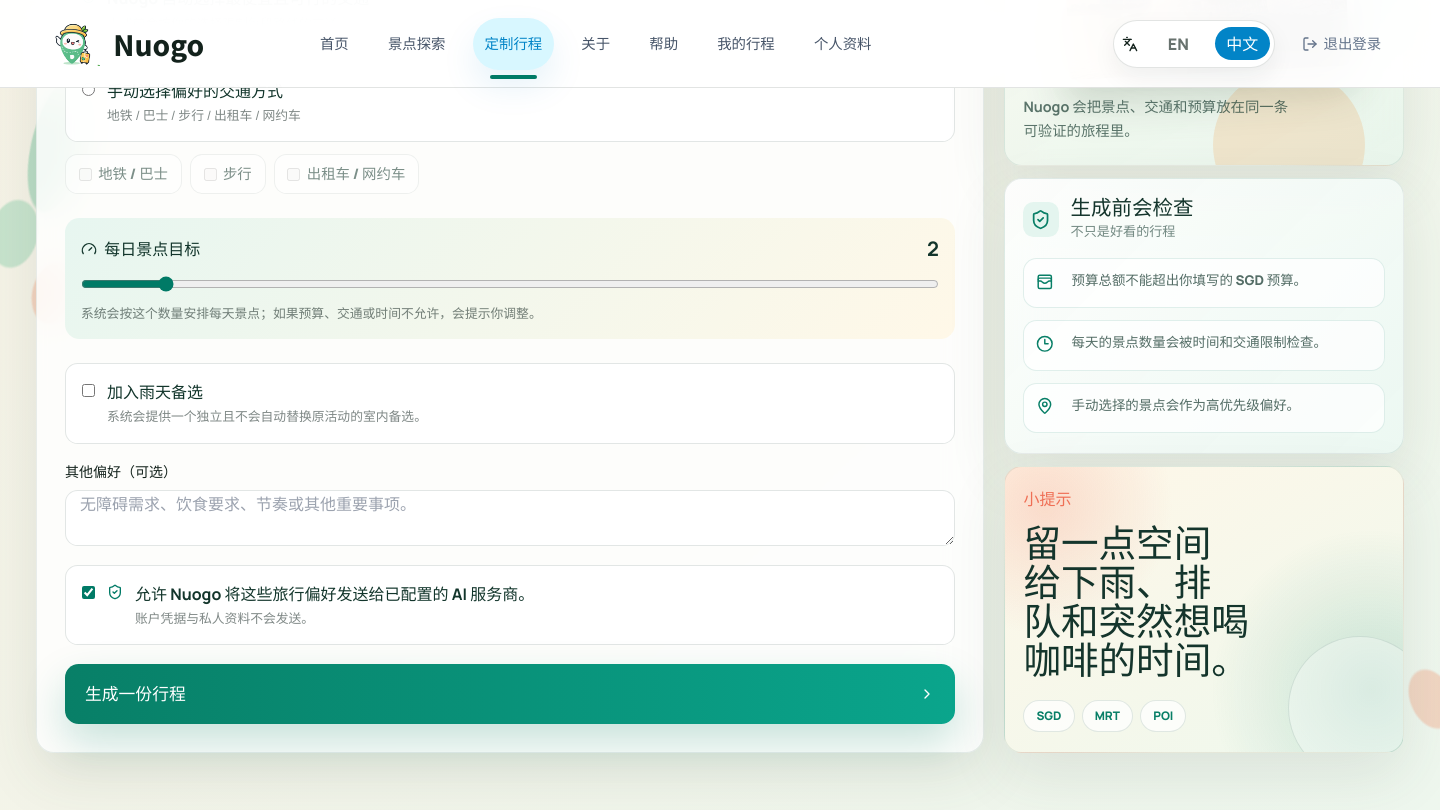
Singapore preference planner › shows the returned validation reason for a constrained generation failure
(page scrolled)
Click the button "生成一份行程". click: (135, 693)
box: [65,664,955,724]
(page scrolled)
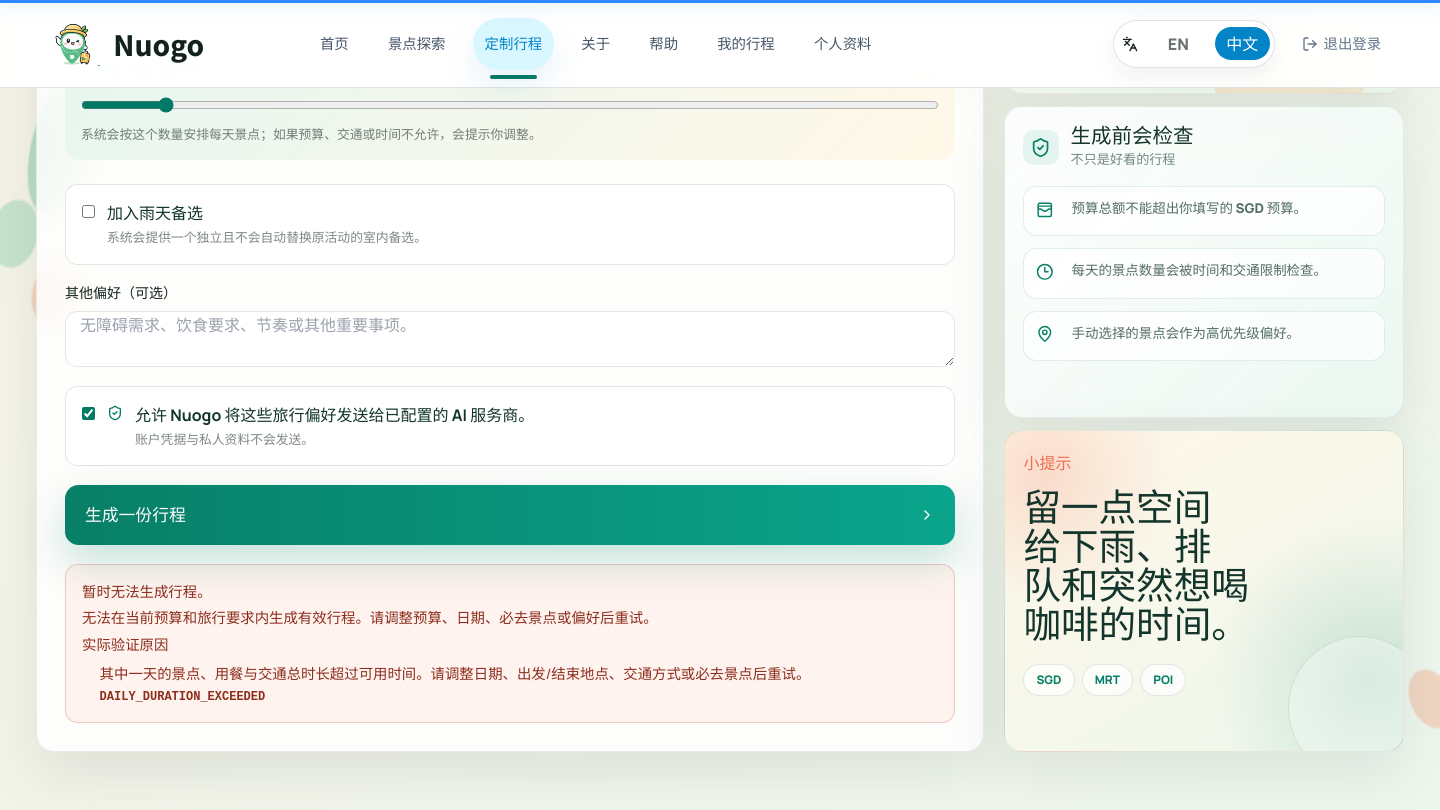
Check: the message shows "无法在当前预算和旅行要求内生成有效行程", box [82,608,658,627]
Check: the message shows "DAILY_DURATION_EXCEEDED", box [100,690,265,704]
